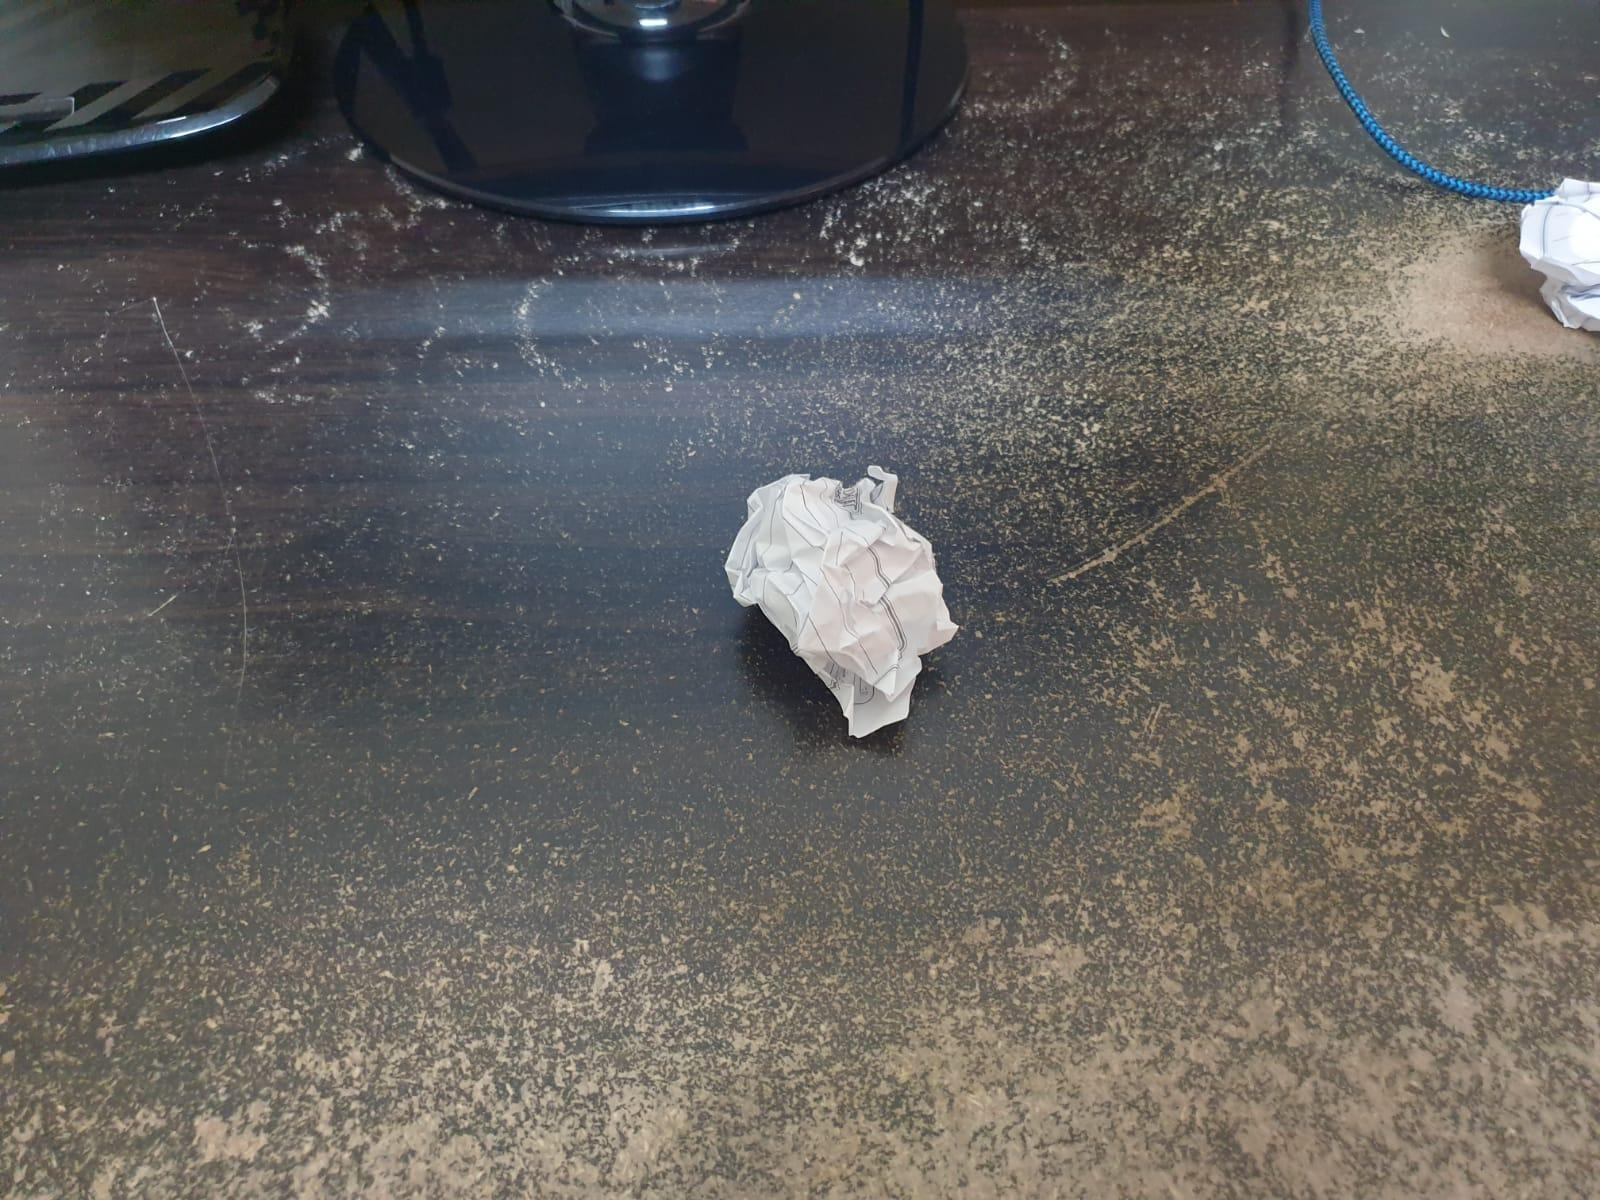Paper: (728, 461, 960, 733)
